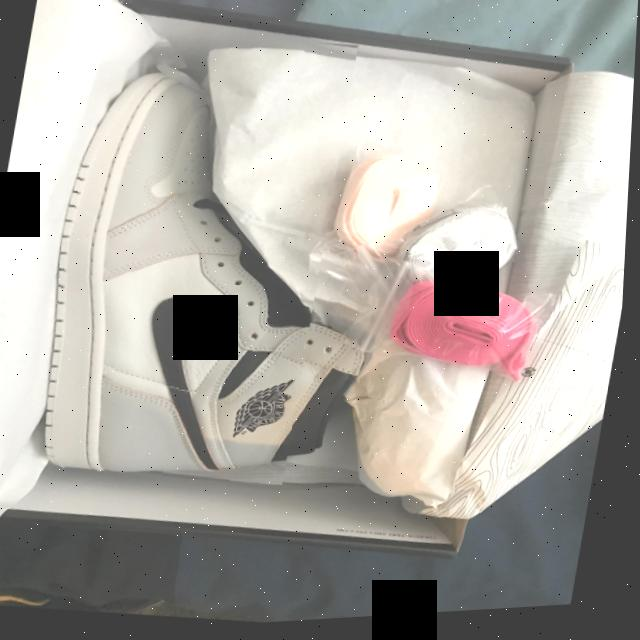shoe: (0, 10, 361, 502)
